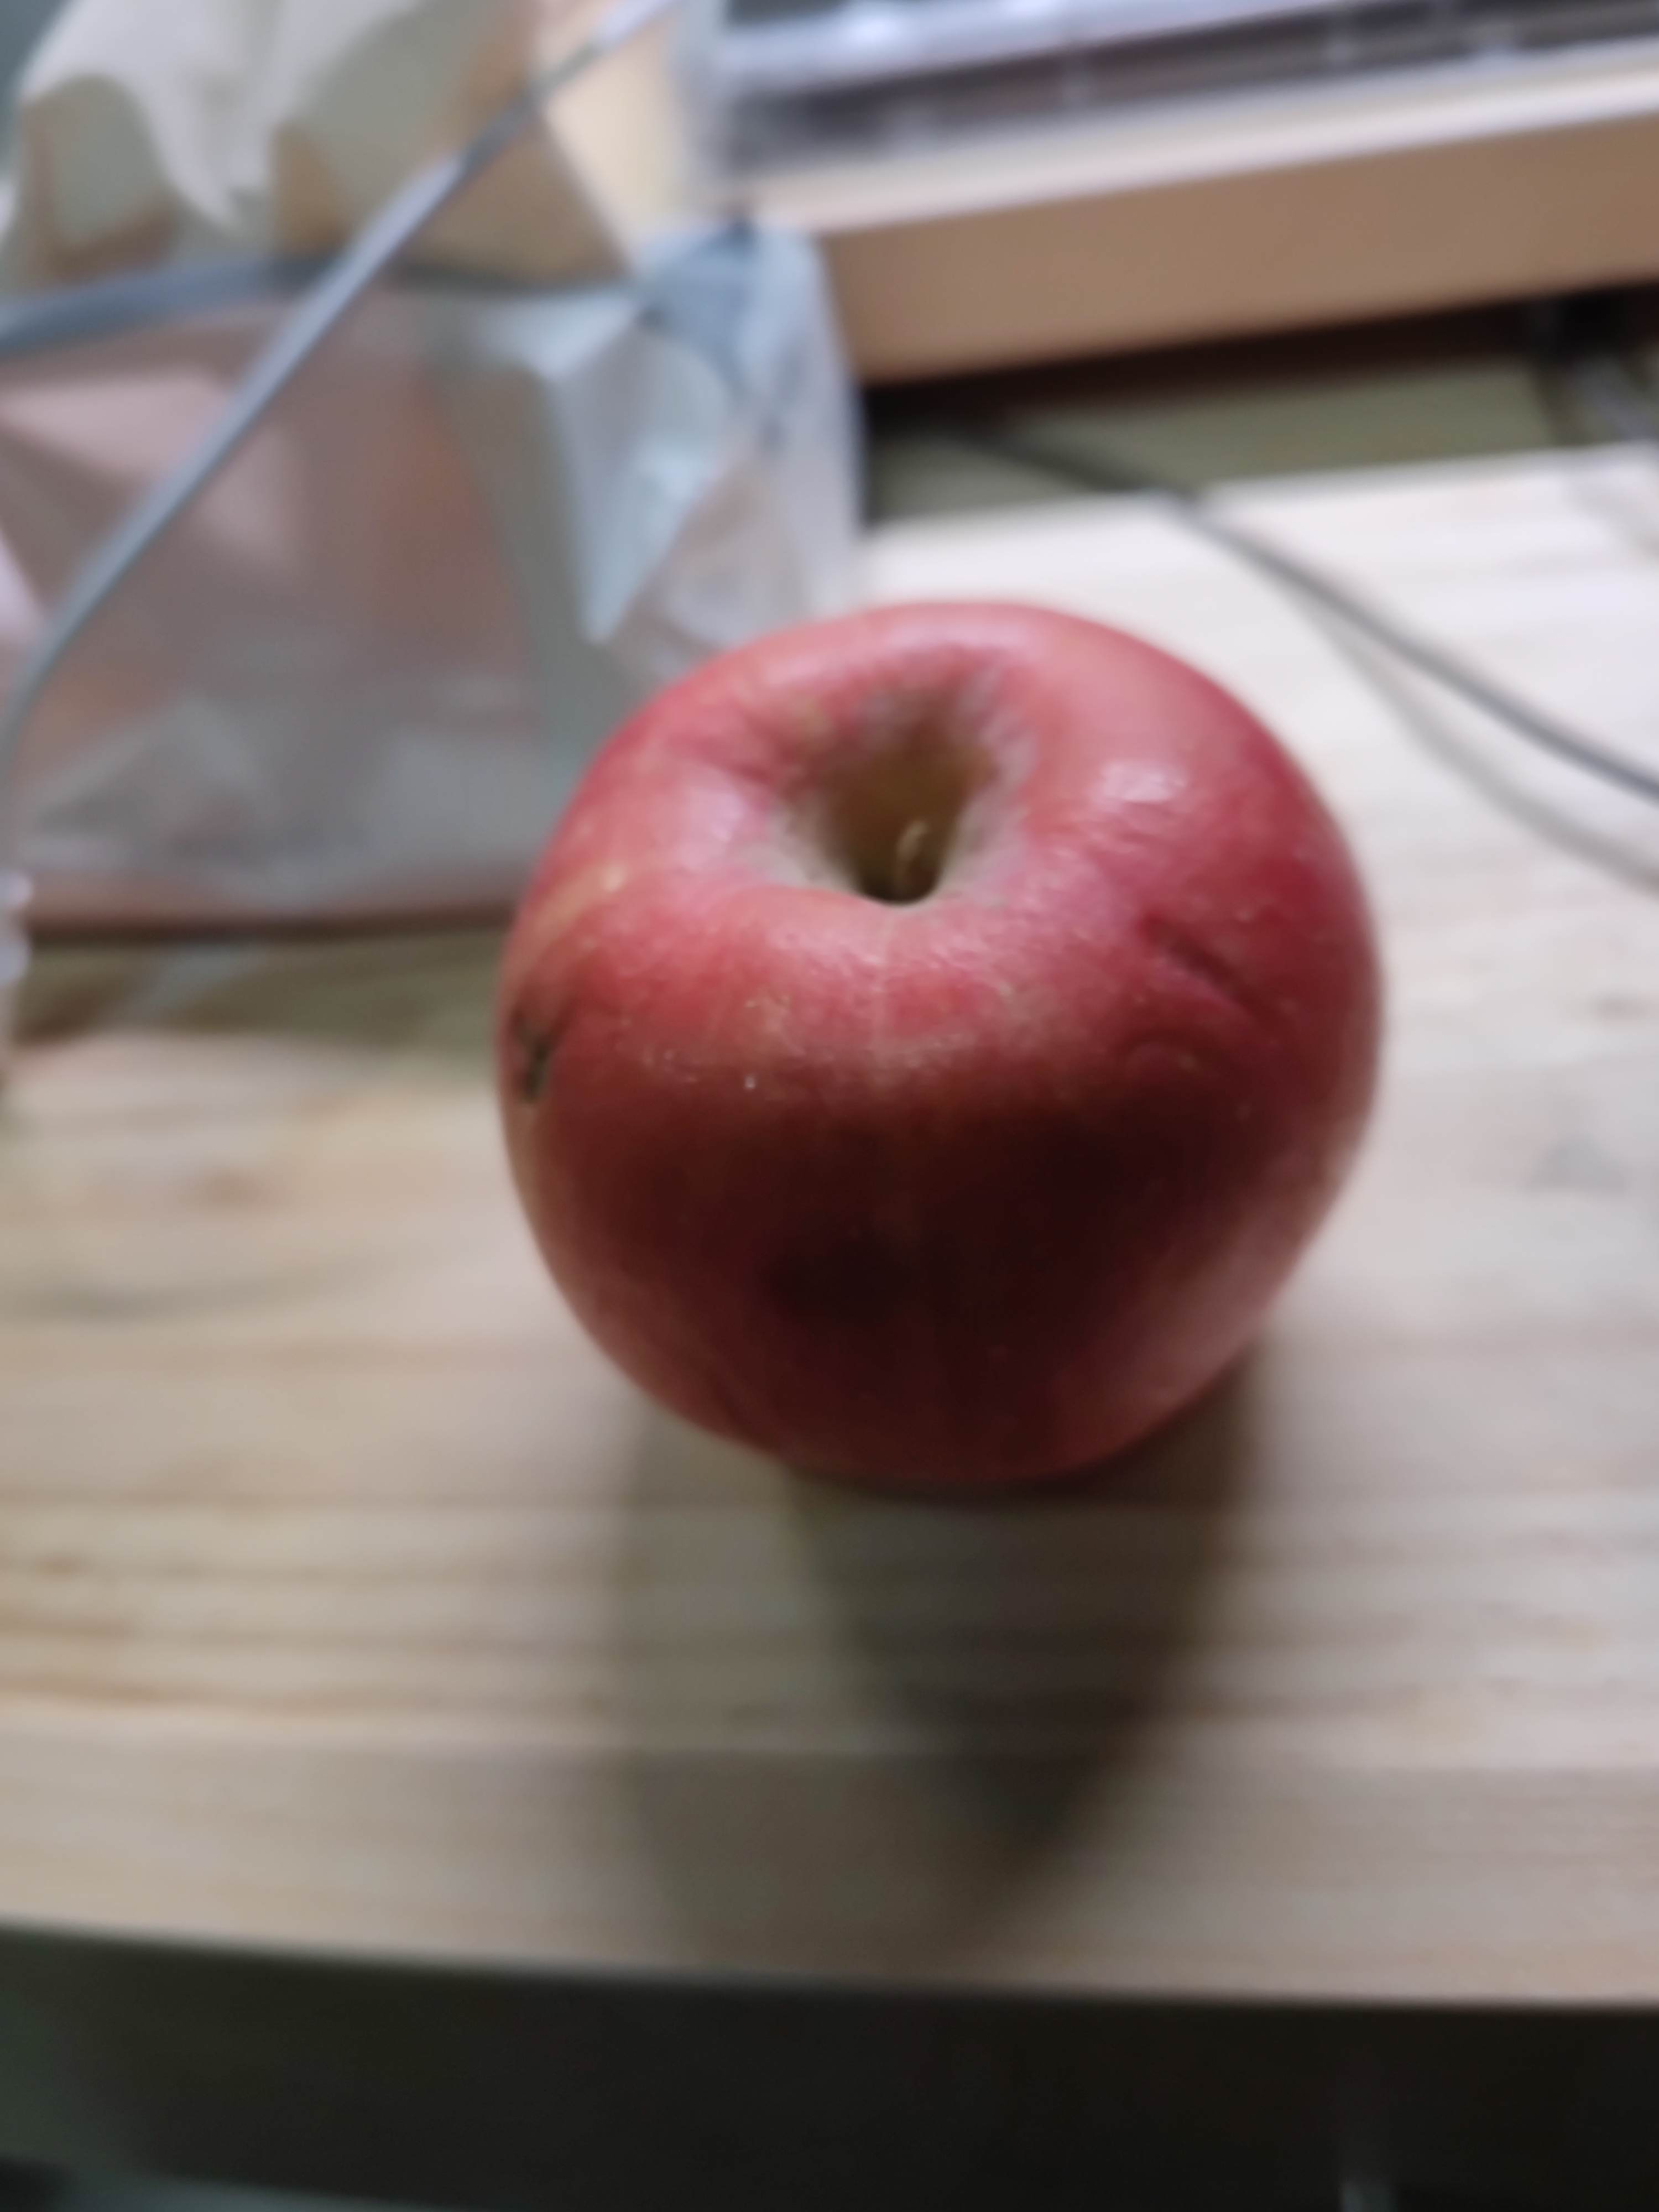apple: (479, 594, 1403, 1500)
